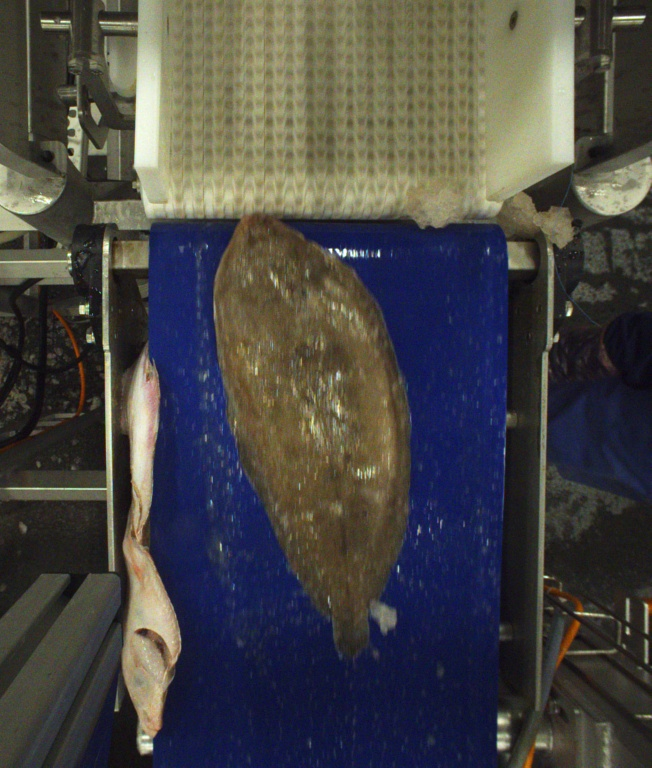SOL: (215, 214, 410, 661)
